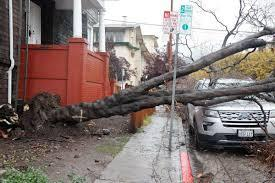Downstairs: (0, 28, 275, 138)
